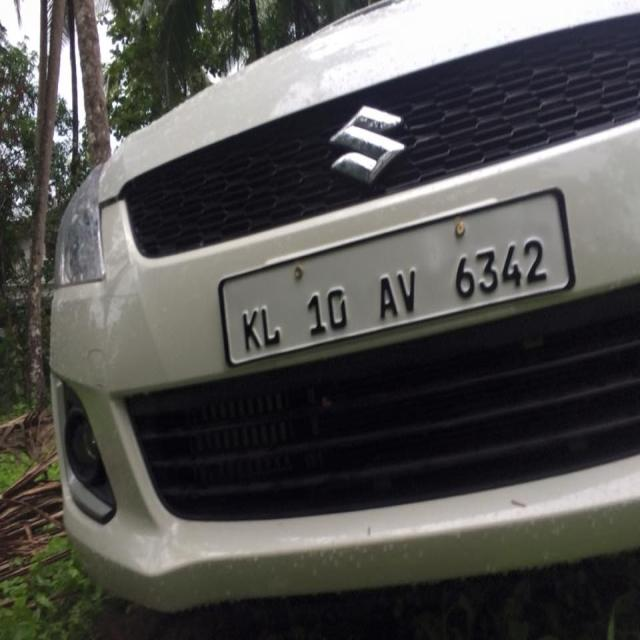number_plate: (229, 214, 565, 369)
